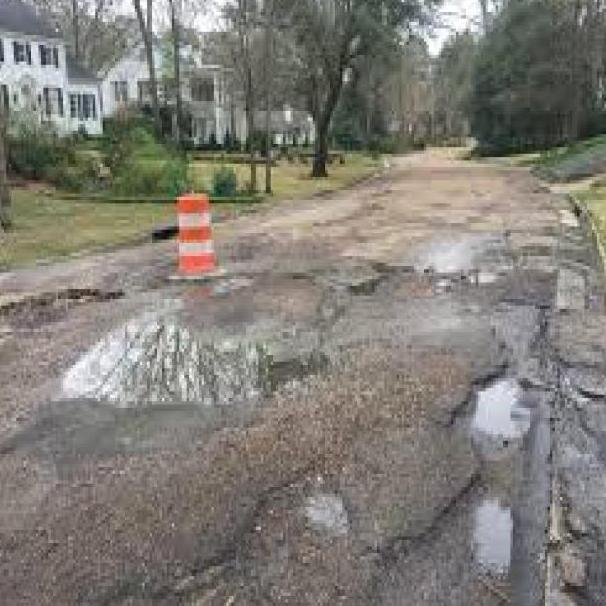pothole: (0, 266, 106, 338), (440, 374, 538, 448), (464, 480, 523, 586)
